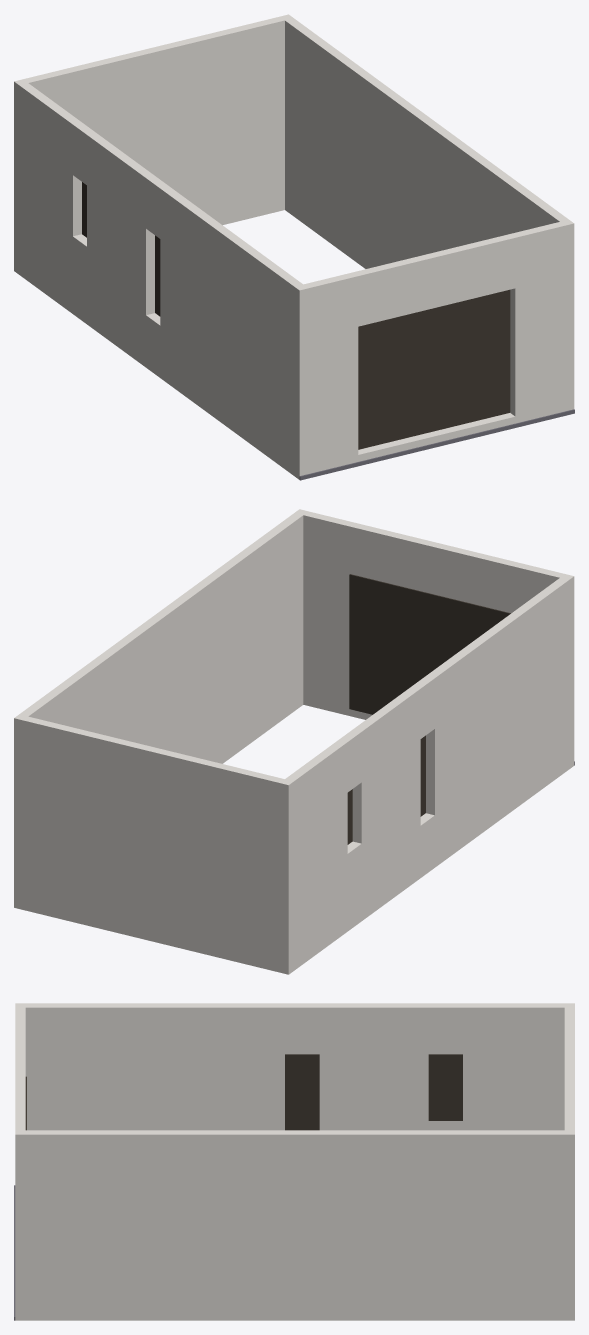
Rendered from SM_Floor_NarrowUpperBalconyEndL_White_455_01.gltf.
The picture shows the model from 3 angles, top to bottom: view 1: azimuth 30°, elevation 25°; view 2: azimuth 150°, elevation 25°; view 3: azimuth 270°, elevation 25°; orthographic projection. The views are drawn at different scales.
Visible parts, largest first — view 1: SM_Floor_NarrowUpperBalconyEndL_White_455_01; view 2: SM_Floor_NarrowUpperBalconyEndL_White_455_01; view 3: SM_Floor_NarrowUpperBalconyEndL_White_455_01.
Boxes of the visible parts, x1,y1,x2,y2 form: SM_Floor_NarrowUpperBalconyEndL_White_455_01: (14,14,574,480); SM_Floor_NarrowUpperBalconyEndL_White_455_01: (14,509,574,974); SM_Floor_NarrowUpperBalconyEndL_White_455_01: (14,1003,574,1320).
Bounding box in the file's own units: 4.55 × 3 × 8.21.
Materials: 1 (1 with a texture image).
